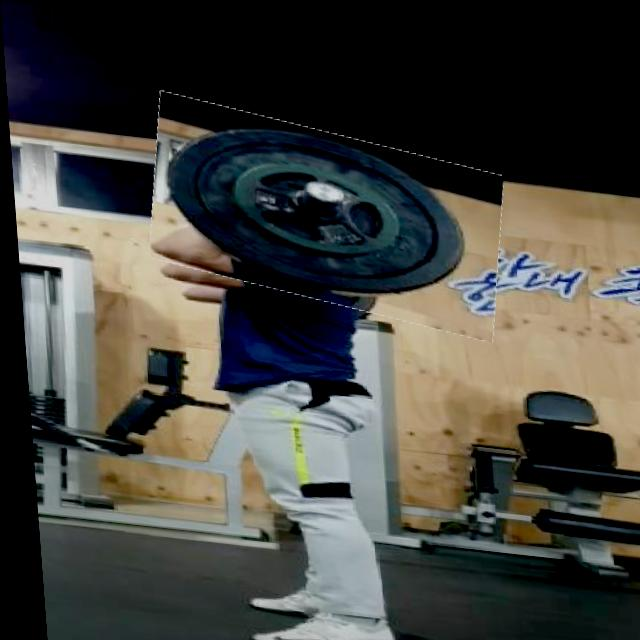barbell: (142, 97, 506, 322)
